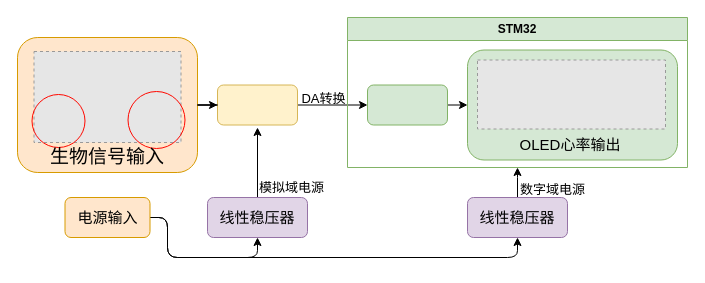
Image size: 705x283. Some labels were removed from this diagram. Grey dashed boxes stand in for pictures. Here are the shapes that lost their labels. From the top down, the centre of each, then its label:
(257,104): AD8232
(407,104): FFT
